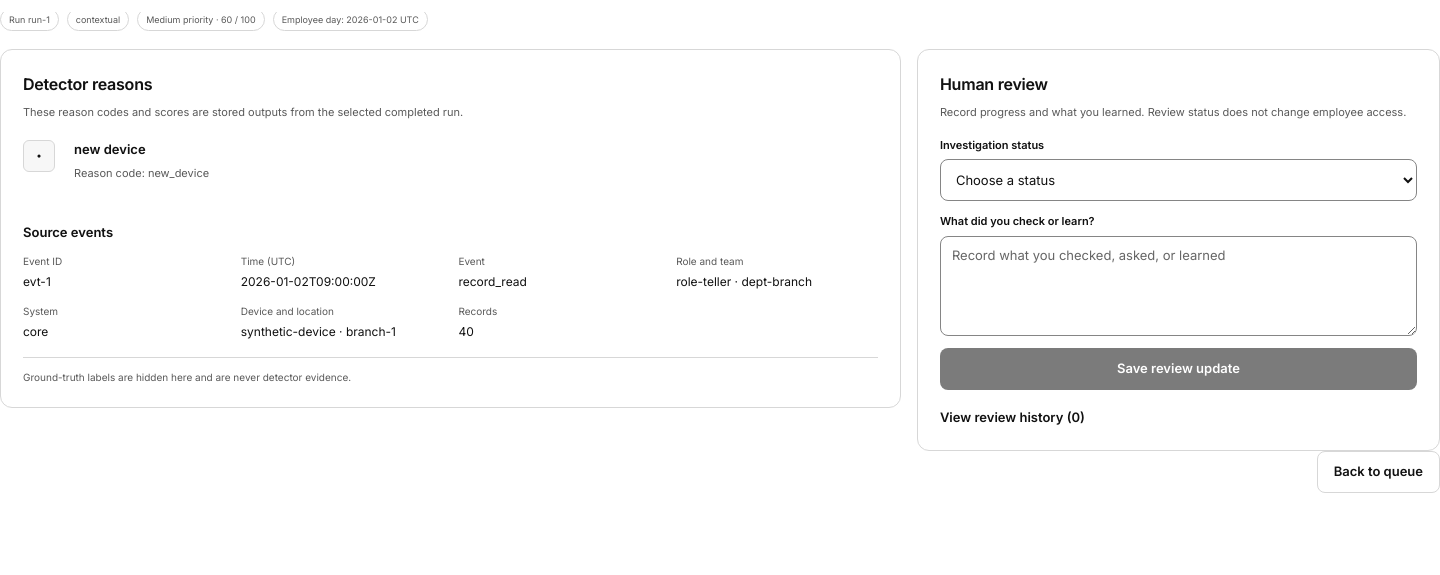
Test: investigation detail and review history › loads stored evidence and appends a review without changing finding data
expect the text "evt-1" is shown: met, box top-left (23, 274), bottom-right (51, 289)
expect the text "Ground-truth labels are hidden here" is shown: met, box top-left (23, 371), bottom-right (351, 383)
Select "Resolved — activity expected" in the dropdown labelled "Investigation status" at (1178, 180), box top-left (940, 159), bottom-right (1417, 201)
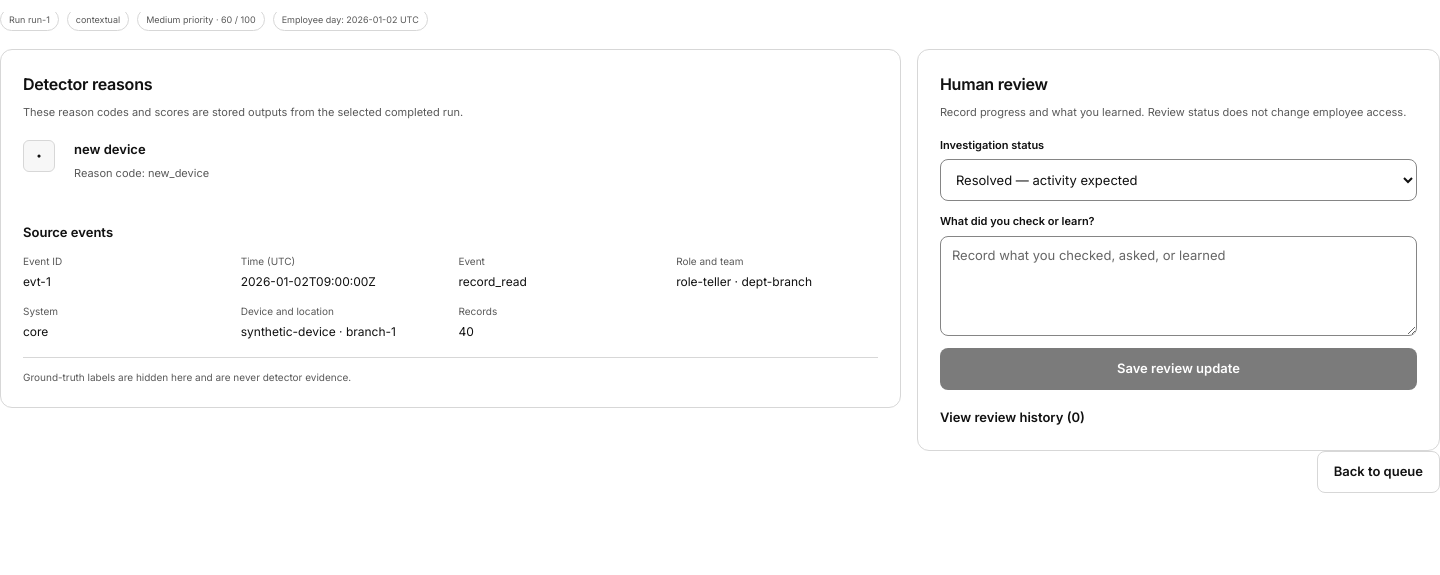
Type "Synthetic test review." into the text box labelled "What did you check or learn?" at (1178, 286), box top-left (940, 236), bottom-right (1417, 336)
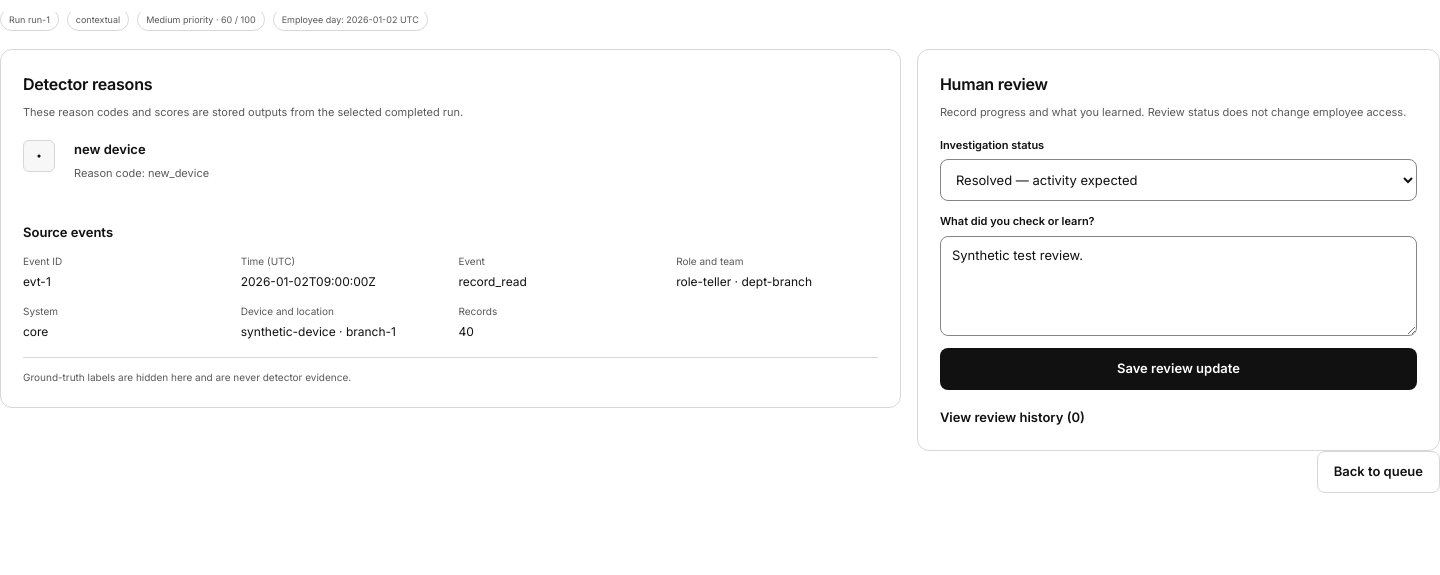
Click the button "Save review update" at (1178, 368), box top-left (940, 348), bottom-right (1417, 390)
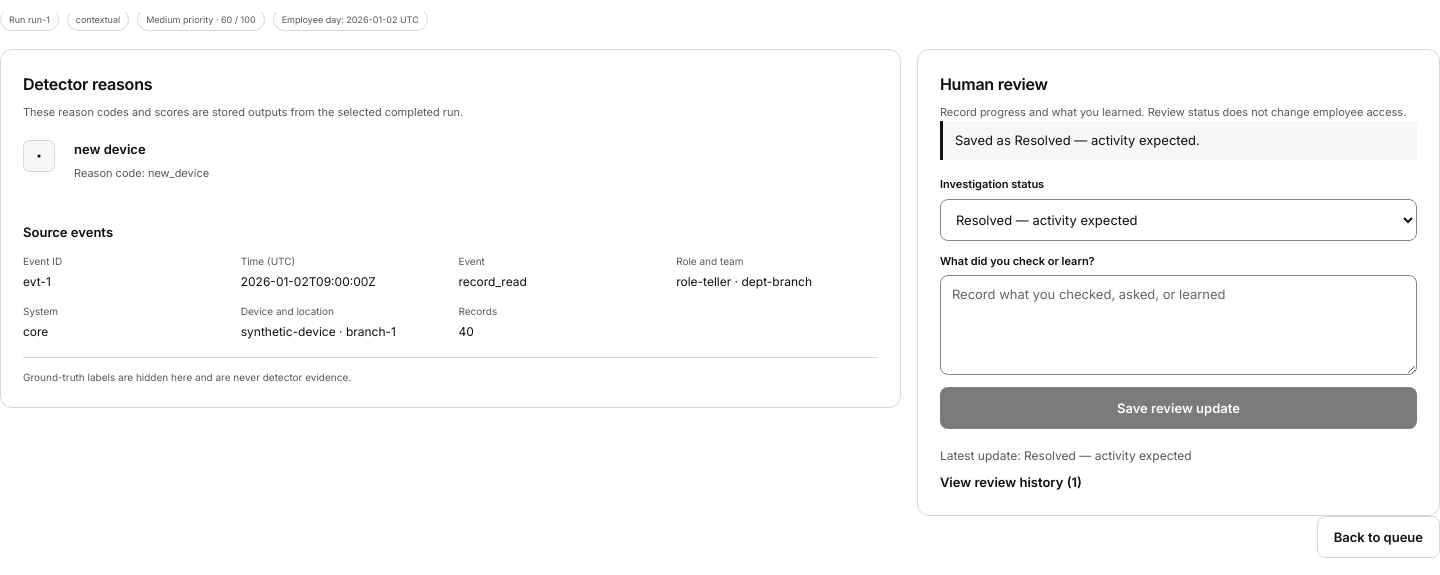
expect the text "evt-1" is shown: met, box top-left (23, 274), bottom-right (51, 289)
expect the text "Saved as Resolved — activity expected." is shown: met, box top-left (940, 120), bottom-right (1417, 160)
expect the link "View review history (1)" is shown: met, box top-left (940, 473), bottom-right (1082, 492)
